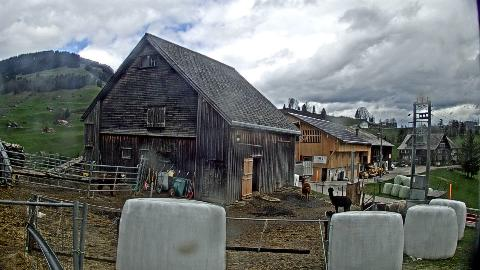car: (391, 164, 395, 170)
sheep: (95, 173, 125, 197), (327, 187, 353, 213), (386, 200, 410, 215), (300, 174, 312, 202), (362, 202, 390, 212), (324, 210, 336, 223)
